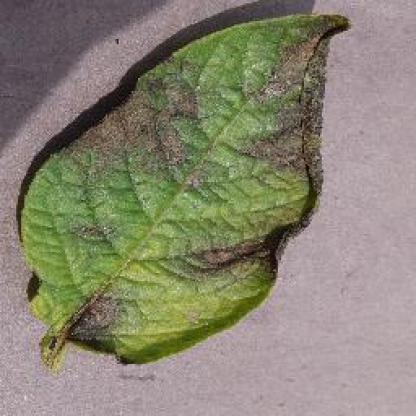bad leaf: (67, 24, 356, 341)
